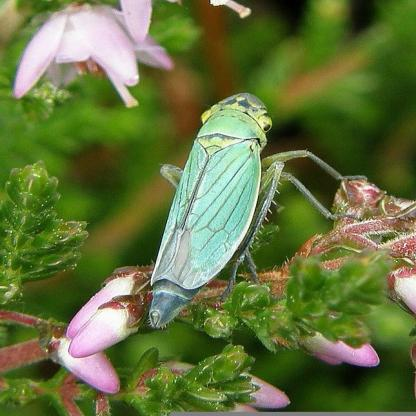Green-Leafhopper: (129, 92, 355, 330)
